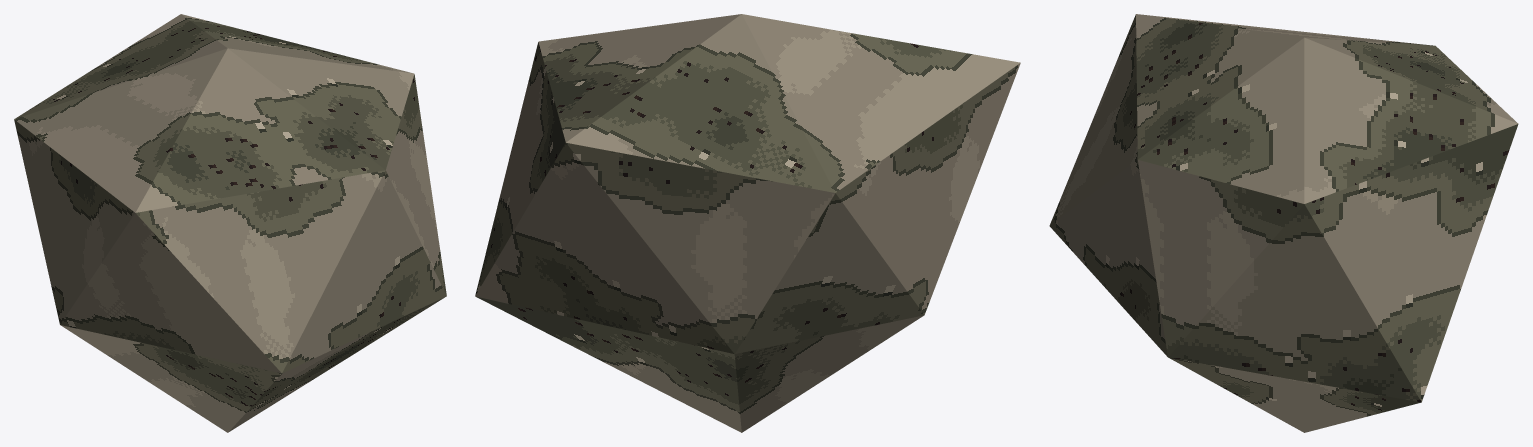
The model's file is ANC_Rock_A.glb.
The picture shows the model from 3 angles, left to right: view 1: azimuth 30°, elevation 25°; view 2: azimuth 150°, elevation 25°; view 3: azimuth 270°, elevation 25°; orthographic projection. The views are drawn at different scales.
Visible parts, largest first — view 1: Rock; view 2: Rock; view 3: Rock.
Part boxes in pixels (box(x1,y1,x2,y2)): Rock: box(14, 14, 446, 432); Rock: box(475, 14, 1020, 432); Rock: box(1049, 14, 1518, 432).
Size of the model in its own units: 0.863 by 0.8759 by 0.9419.
1 material, 1 textured.
